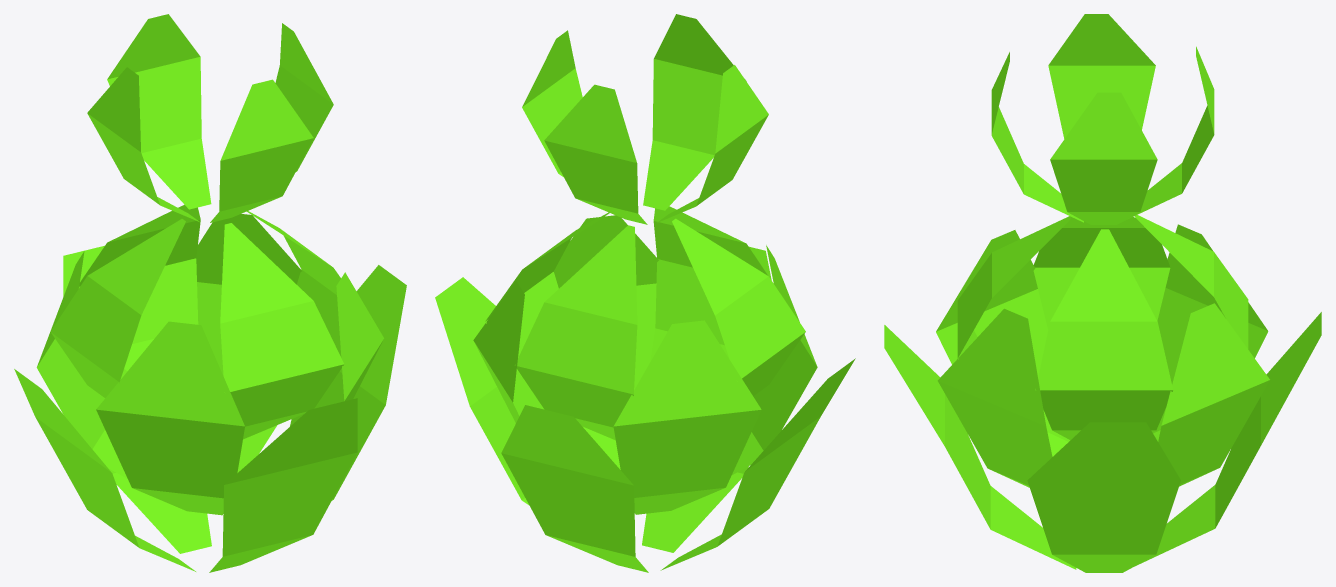
Rendered from plant_7.gltf.
The picture shows the model from 3 angles, left to right: view 1: azimuth 30°, elevation 25°; view 2: azimuth 150°, elevation 25°; view 3: azimuth 270°, elevation 25°; orthographic projection.
Parts seen in each view (by area): view 1: Plant_7; view 2: Plant_7; view 3: Plant_7.
Part boxes in pixels (left/top/right/bottom): Plant_7: left=14, top=14, right=406, bottom=572; Plant_7: left=435, top=14, right=855, bottom=572; Plant_7: left=884, top=14, right=1321, bottom=572.
Bounding box in the file's own units: 120 × 154 × 120.
